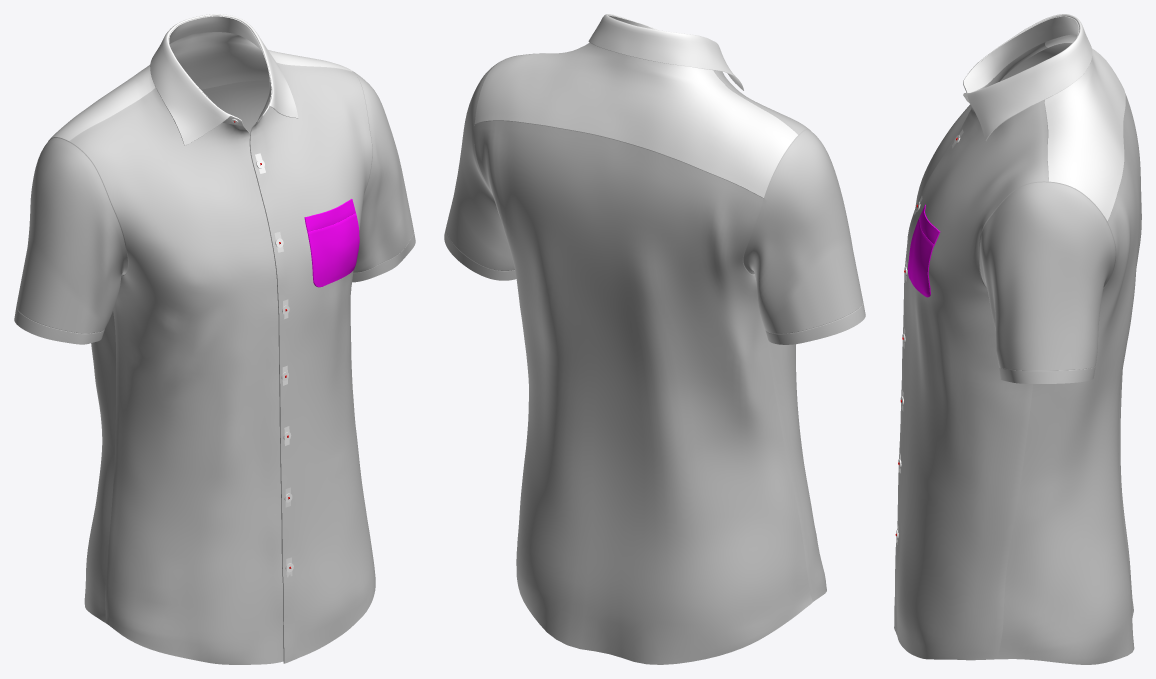
The model's file is 3dShirt.glb.
3 renders of one model, left to right at view 1: azimuth 30°, elevation 25°; view 2: azimuth 150°, elevation 25°; view 3: azimuth 270°, elevation 25°, orthographic. The views are drawn at different scales.
Parts seen in each view (by area): view 1: Shirt, short_sleeve_2, pleat_no, yoke, collar_outside, pocket_round, collar_inside; view 2: pleat_no, yoke, short_sleeve_2, Shirt, collar_outside; view 3: Shirt, pleat_no, short_sleeve_2, yoke, collar_outside, collar_inside, pocket_round.
Part boxes in pixels (x1,y1,x2,y2): Shirt: (69,62,375,664); short_sleeve_2: (14,71,415,344); pleat_no: (84,80,269,622); yoke: (50,32,352,140); collar_outside: (150,14,298,145); pocket_round: (304,199,359,287); collar_inside: (169,16,271,124); pleat_no: (474,121,812,664); yoke: (474,42,797,198); short_sleeve_2: (444,61,865,344); Shirt: (505,53,826,601); collar_outside: (588,14,743,90); Shirt: (894,42,1048,660); pleat_no: (997,93,1141,664); short_sleeve_2: (978,43,1116,383); yoke: (1044,34,1125,220); collar_outside: (963,14,1092,140); collar_inside: (963,16,1079,93); pocket_round: (907,204,940,297).
Bounding box in the file's own units: 0.5781 × 0.8272 × 0.3079.
